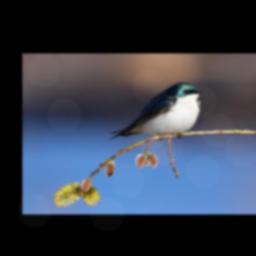Swallow: (109, 81, 206, 139)
